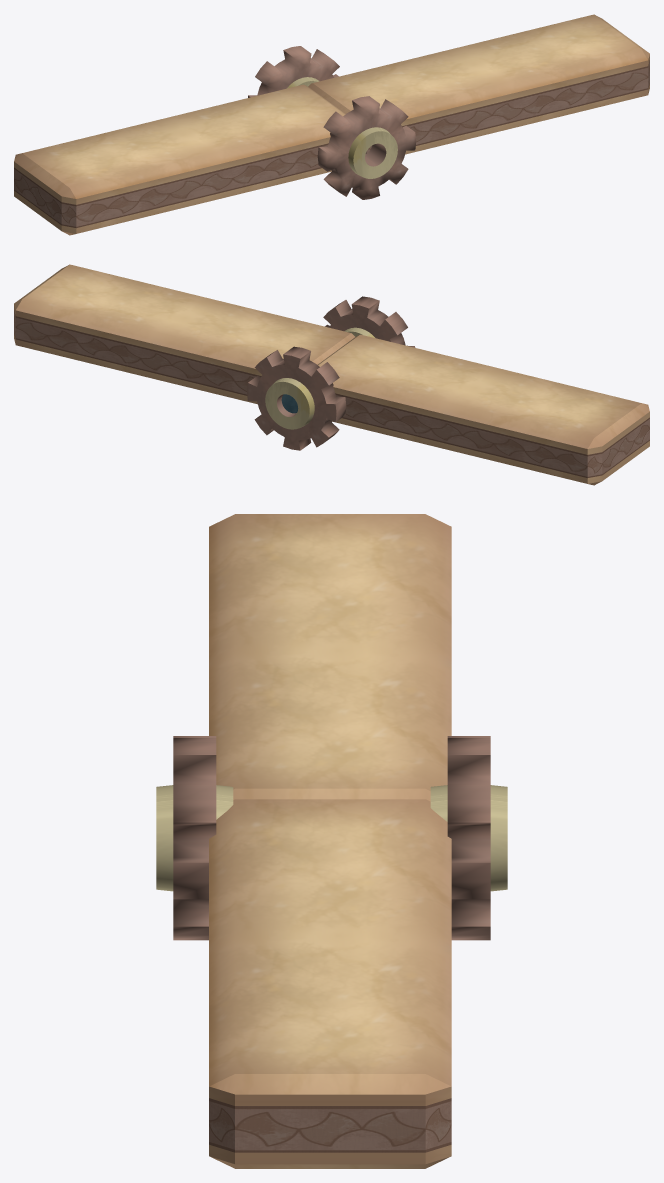
File: TiltingPlatform.fbx
3 views of the same model, one above another, from view 1: azimuth 30°, elevation 25°; view 2: azimuth 150°, elevation 25°; view 3: azimuth 270°, elevation 25° (orthographic). The views are drawn at different scales.
Parts seen in each view (by area): view 1: TiltingPlatform; view 2: TiltingPlatform; view 3: TiltingPlatform.
Boxes of the visible parts, <box> form: TiltingPlatform: <box>14,14,649,235</box>; TiltingPlatform: <box>14,264,649,485</box>; TiltingPlatform: <box>156,514,507,1168</box>.
Size of the model in its own units: 3529 by 537 by 912.
3 materials, 3 textured.
